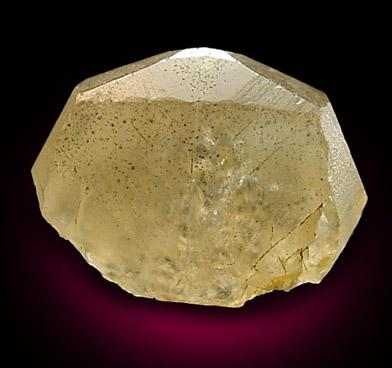calcite: (32, 48, 368, 308)
